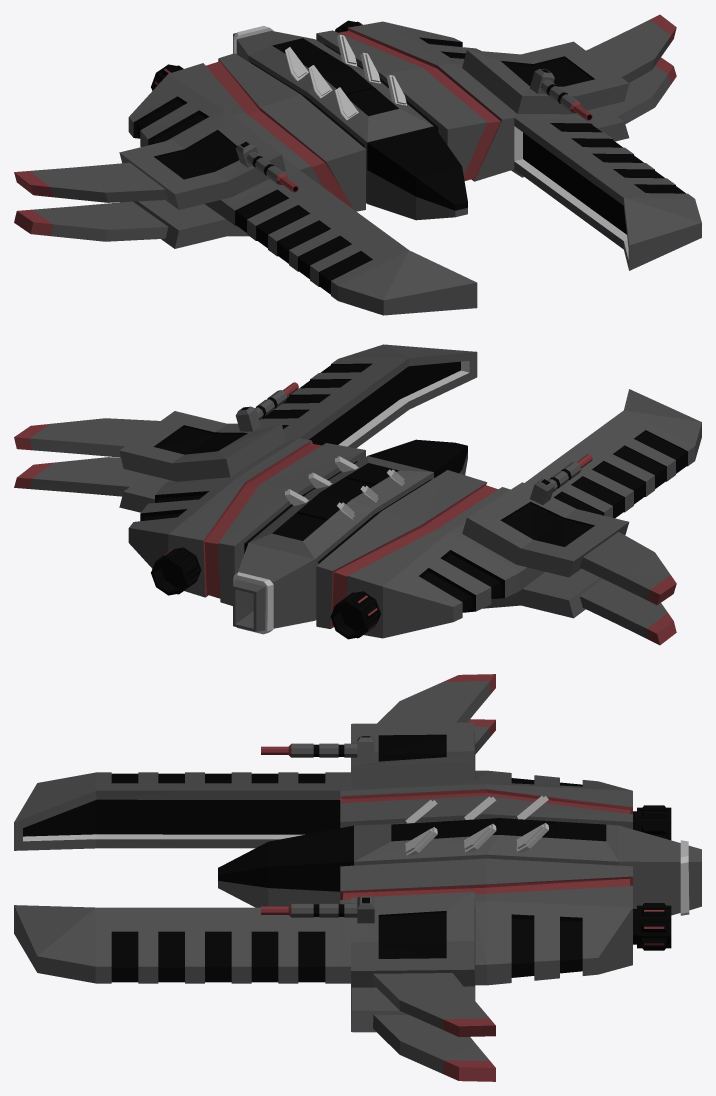
Rendered from Spaceship8_2.fbx.
The picture shows the model from 3 angles, top to bottom: view 1: azimuth 30°, elevation 25°; view 2: azimuth 150°, elevation 25°; view 3: azimuth 270°, elevation 25°; orthographic projection. The views are drawn at different scales.
Visible parts, largest first — view 1: Spaceship8_2; view 2: Spaceship8_2; view 3: Spaceship8_2.
Part boxes in pixels (bbox=[...]): Spaceship8_2: bbox=[14, 14, 701, 315]; Spaceship8_2: bbox=[14, 344, 701, 645]; Spaceship8_2: bbox=[14, 674, 701, 1081].
Bounding box in the file's own units: 1782 × 284 × 1474.
